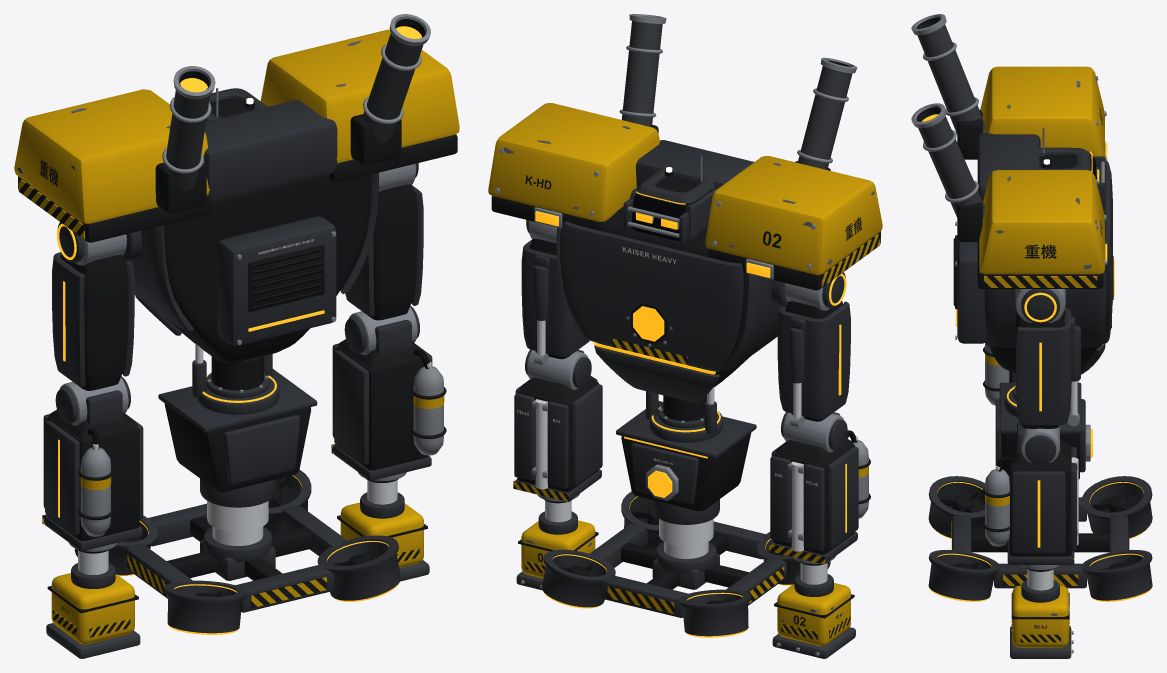
The model's file is piston.glb.
3 renders of one model, left to right at view 1: azimuth 30°, elevation 25°; view 2: azimuth 150°, elevation 25°; view 3: azimuth 270°, elevation 25°, orthographic. The views are drawn at different scales.
Parts seen in each view (by area): view 1: CHEST_mesh, BODY_mesh, ELBOW_1_mesh, ELBOW_0_mesh, ARM_0_mesh, ARM_1_mesh, HAND_0_mesh, HAND_1_mesh, HEAD_mesh; view 2: CHEST_mesh, BODY_mesh, ELBOW_0_mesh, ELBOW_1_mesh, ARM_0_mesh, ARM_1_mesh, HAND_0_mesh, HEAD_mesh, HAND_1_mesh, CORE; view 3: CHEST_mesh, BODY_mesh, ELBOW_1_mesh, ARM_1_mesh, HAND_1_mesh, HEAD_mesh, ELBOW_0_mesh.
Boxes of the visible parts, x1,y1,x2,y2 form: CHEST_mesh: (14,14,459,363); BODY_mesh: (74,343,400,634); ELBOW_1_mesh: (331,306,446,480); ELBOW_0_mesh: (42,376,143,551); ARM_0_mesh: (52,222,134,390); ARM_1_mesh: (345,163,423,320); HAND_0_mesh: (46,550,140,658); HAND_1_mesh: (337,480,429,581); HEAD_mesh: (206,88,267,121); CHEST_mesh: (488,14,882,402); BODY_mesh: (542,387,830,637); ELBOW_0_mesh: (769,412,870,564); ELBOW_1_mesh: (513,349,602,502); ARM_0_mesh: (777,272,850,428); ARM_1_mesh: (521,220,589,365); HAND_0_mesh: (772,563,855,658); HEAD_mesh: (623,155,716,242); HAND_1_mesh: (516,500,598,590); CORE: (633,306,664,341); CHEST_mesh: (911,14,1113,374); BODY_mesh: (928,382,1152,601); ELBOW_1_mesh: (983,421,1078,565); ARM_1_mesh: (1015,289,1080,428); HAND_1_mesh: (1010,569,1073,658); HEAD_mesh: (1035,127,1105,209); ELBOW_0_mesh: (983,342,1078,405).
Size of the model in its own units: 1.21 by 1.84 by 0.7683.
